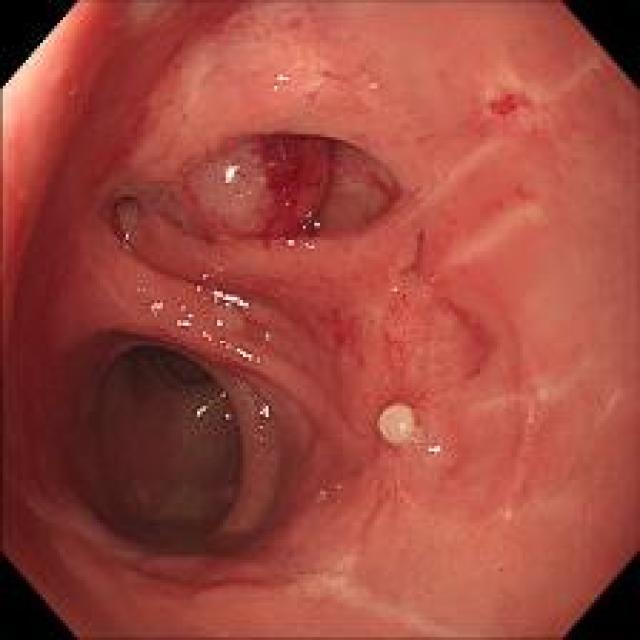blood: (260, 126, 329, 240)
specularity: (198, 312, 260, 362), (195, 260, 251, 310), (171, 300, 195, 331), (299, 205, 322, 232), (269, 72, 290, 94), (422, 440, 446, 459), (222, 161, 240, 185), (149, 295, 165, 319), (255, 402, 272, 421), (192, 402, 210, 419), (365, 79, 380, 92), (224, 410, 232, 424), (282, 199, 291, 209), (219, 388, 229, 396)
